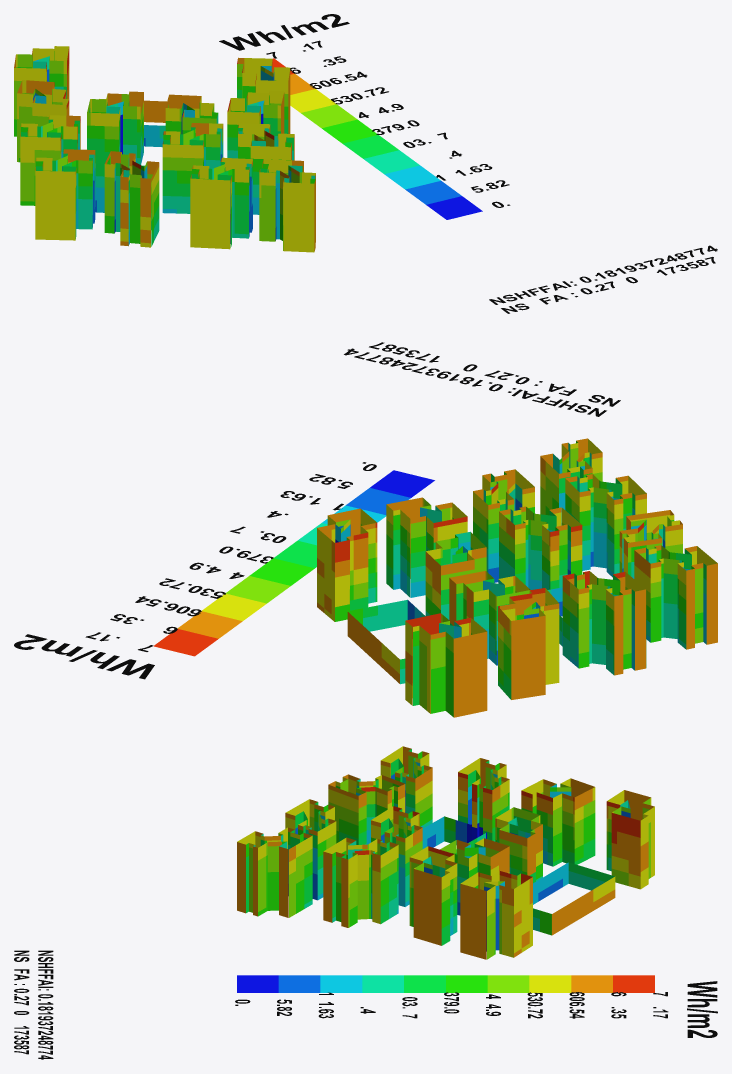
Rendered from punggol_luse101_nshffai.dae.
3 views of the same model, one above another, from view 1: azimuth 30°, elevation 25°; view 2: azimuth 150°, elevation 25°; view 3: azimuth 270°, elevation 25° (orthographic). The views are drawn at different scales.
Parts seen in each view (by area): view 1: node0 (×17); view 2: node0 (×18); view 3: node0 (×20).
Boxes of the visible parts, x1,y1,x2,y2 form: node0 (×17): [14, 14, 717, 313]; node0 (×18): [14, 342, 717, 717]; node0 (×20): [14, 746, 717, 1059].
Bounding box in the file's own units: 367 × 446 × 48.
